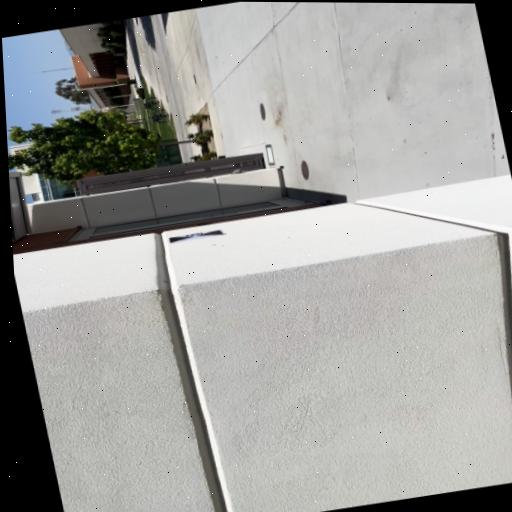target6: (167, 228, 224, 244)
